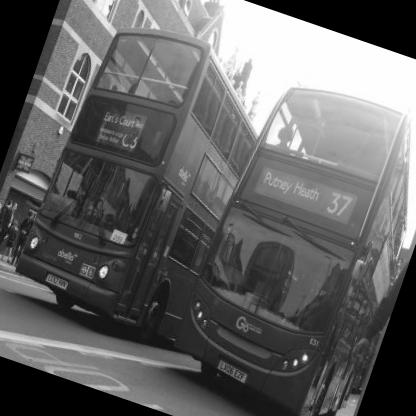bus: (3, 10, 274, 357), (166, 70, 416, 416)
